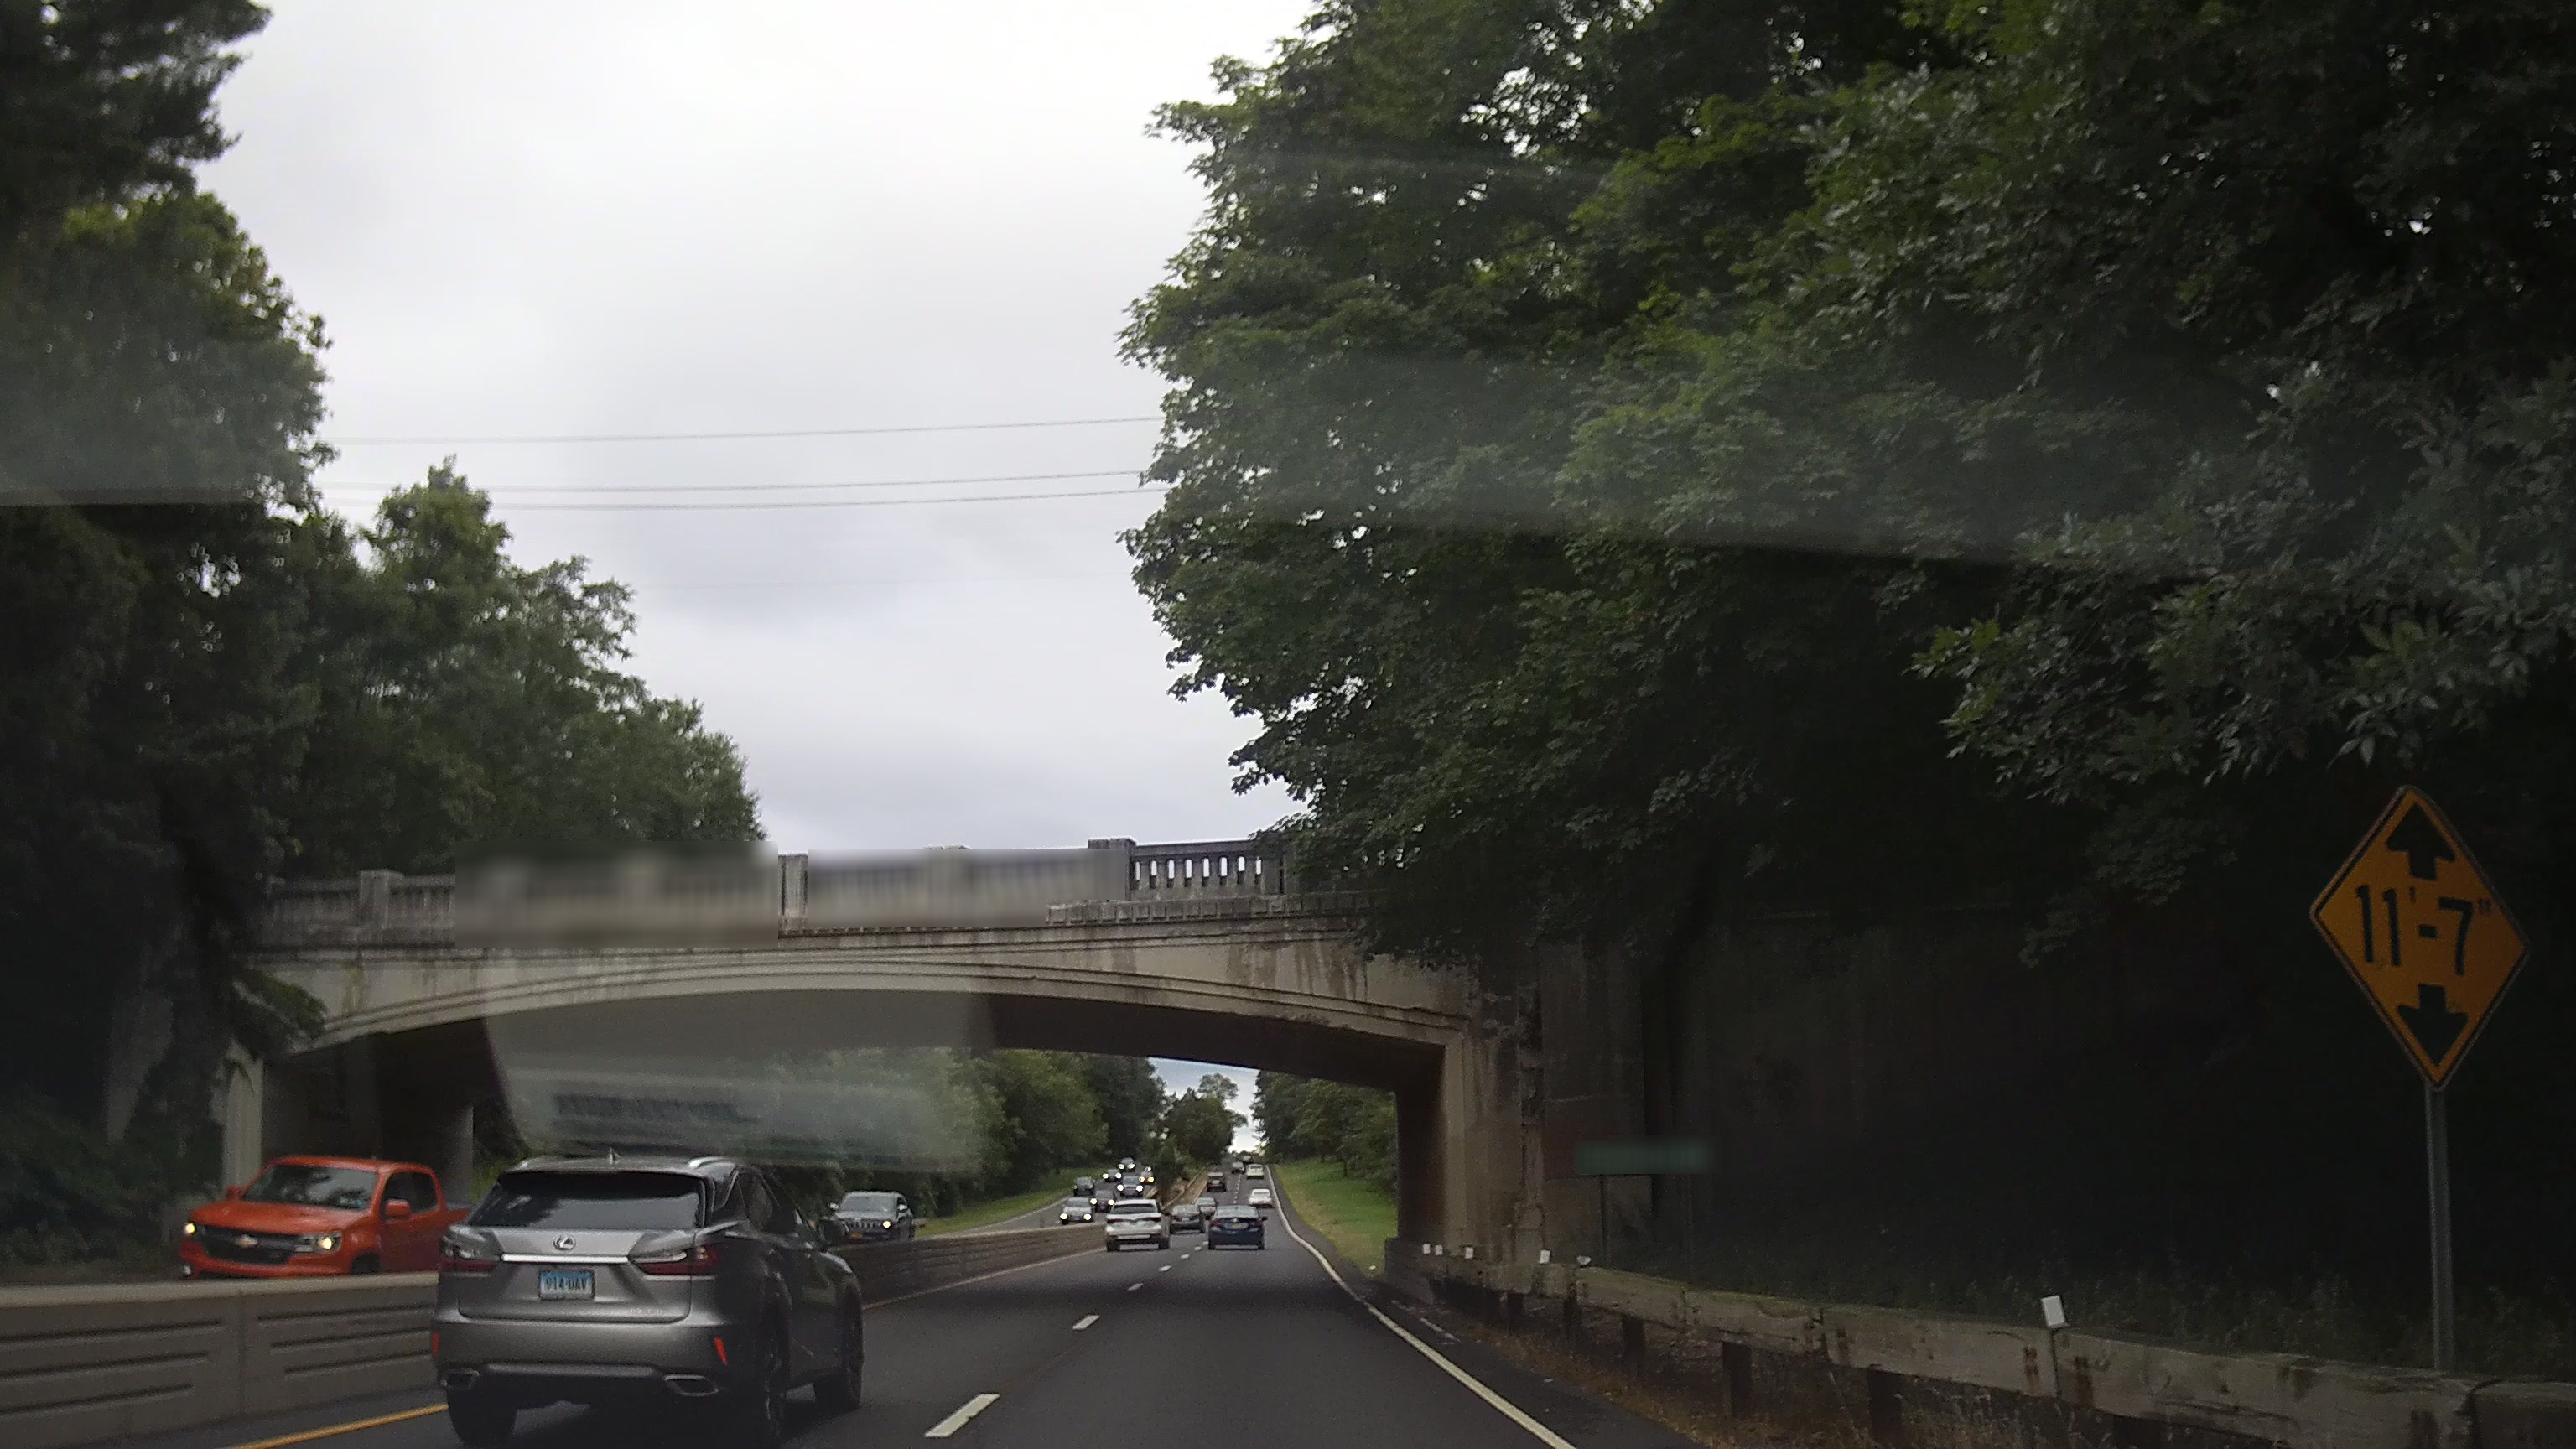low-clearance-sign: (2309, 784, 2535, 1090)
